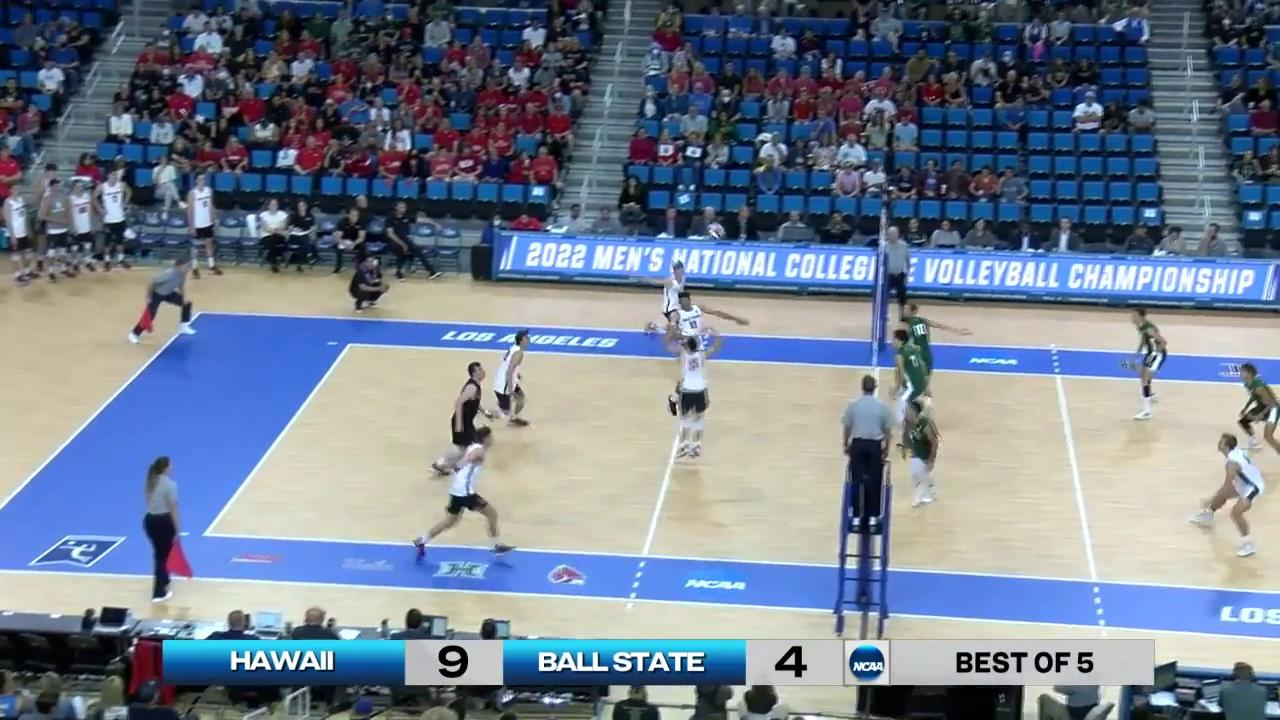player: (410, 425, 508, 553), (1193, 431, 1266, 557), (433, 365, 491, 479), (670, 332, 716, 461), (673, 294, 715, 413), (1124, 309, 1168, 422), (901, 397, 942, 511), (1231, 364, 1280, 454), (895, 300, 935, 407), (892, 331, 927, 451), (492, 333, 530, 430), (653, 258, 694, 341)
refree: (841, 373, 895, 532), (140, 461, 184, 601), (131, 253, 197, 345), (875, 226, 912, 325)
